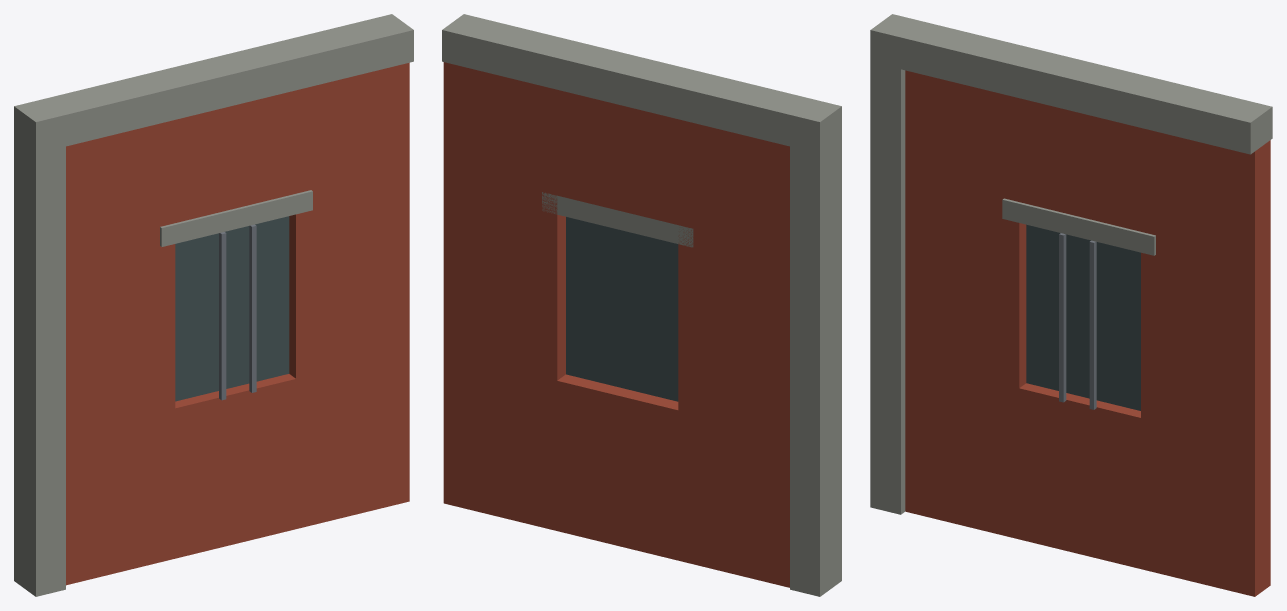
Rendered from mid-w1.fbx.
The picture shows the model from 3 angles, left to right: view 1: azimuth 30°, elevation 25°; view 2: azimuth 150°, elevation 25°; view 3: azimuth 330°, elevation 25°; orthographic projection.
Parts seen in each view (by area): view 1: a2020/0/mid-w1; view 2: a2020/0/mid-w1; view 3: a2020/0/mid-w1.
Part boxes in pixels (x1,y1,x2,y2): a2020/0/mid-w1: (14,14,413,596); a2020/0/mid-w1: (442,14,841,596); a2020/0/mid-w1: (870,14,1272,596).
Size of the model in its own units: 2.5 by 3 by 0.25.
